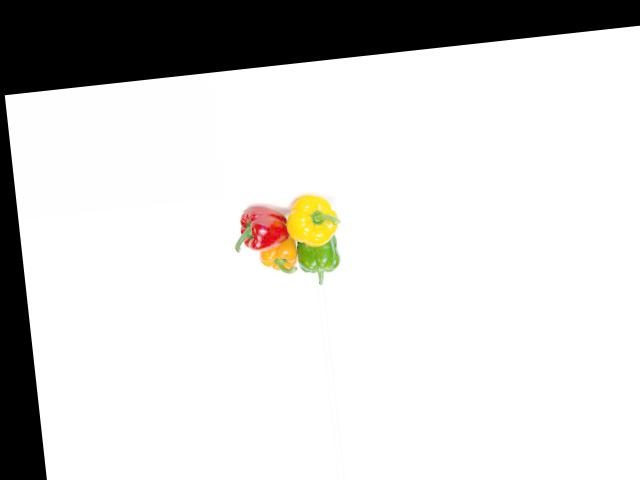bell_pepper: (281, 189, 345, 249)
